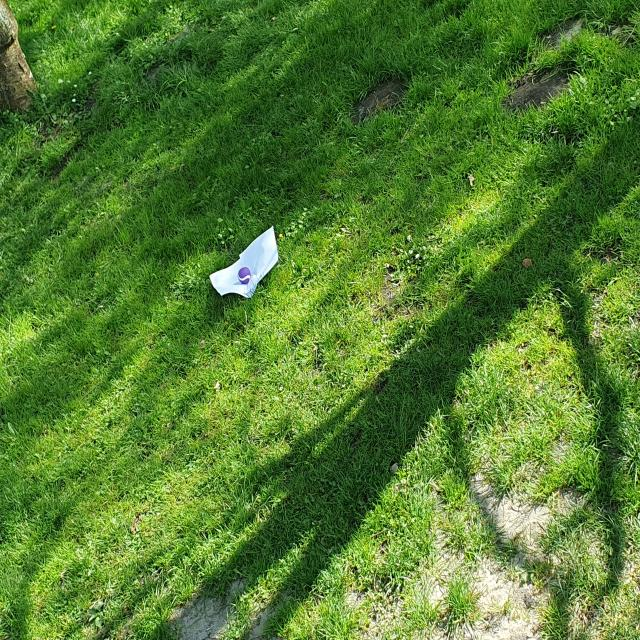purple: (237, 266, 251, 284)
